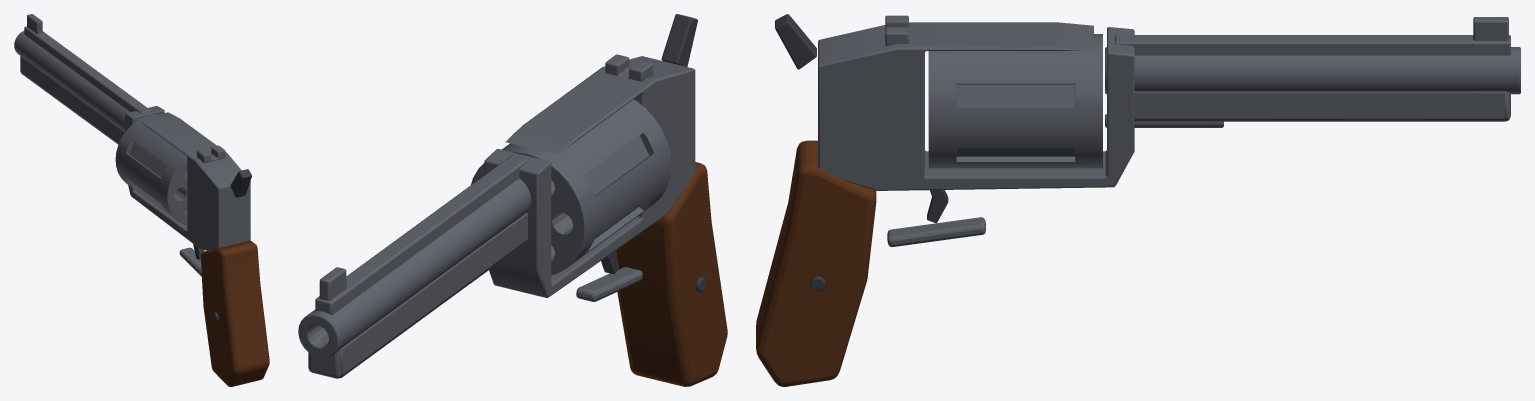
Rendered from judge.glb.
3 views of the same model, side by side, from view 1: azimuth 30°, elevation 25°; view 2: azimuth 150°, elevation 25°; view 3: azimuth 270°, elevation 25° (orthographic). The views are drawn at different scales.
Parts seen in each view (by area): view 1: grip, frame, cylinder, barrel, rib, lug, hammer, rear_sight, tguard, front_sight; view 2: frame, grip, cylinder, barrel, lug, rib, hammer, tguard, rear_sight, front_sight; view 3: frame, cylinder, grip, barrel, lug, rib, tguard, hammer, front_sight, rear_sight, ejector_rod.
Part boxes in pixels (x1=…): grip: x1=200, y1=240, x2=269, y2=386; frame: x1=125, y1=106, x2=250, y2=250; cylinder: x1=115, y1=114, x2=187, y2=225; barrel: x1=14, y1=31, x2=129, y2=131; rib: x1=24, y1=26, x2=150, y2=113; lug: x1=20, y1=55, x2=124, y2=144; hammer: x1=230, y1=169, x2=251, y2=197; rear_sight: x1=197, y1=145, x2=225, y2=163; tguard: x1=179, y1=247, x2=201, y2=276; front_sight: x1=27, y1=14, x2=42, y2=33; frame: x1=484, y1=56, x2=695, y2=297; grip: x1=616, y1=162, x2=727, y2=386; cylinder: x1=471, y1=99, x2=671, y2=275; barrel: x1=298, y1=178, x2=531, y2=357; lug: x1=308, y1=212, x2=527, y2=378; rib: x1=315, y1=155, x2=528, y2=314; hammer: x1=661, y1=14, x2=697, y2=66; tguard: x1=576, y1=267, x2=642, y2=301; rear_sight: x1=605, y1=54, x2=653, y2=81; front_sight: x1=319, y1=267, x2=346, y2=300; frame: x1=818, y1=22, x2=1134, y2=190; cylinder: x1=928, y1=34, x2=1102, y2=168; grip: x1=756, y1=140, x2=876, y2=386; barrel: x1=1105, y1=47, x2=1520, y2=94; lug: x1=1134, y1=91, x2=1510, y2=121; rib: x1=1115, y1=35, x2=1510, y2=55; tguard: x1=887, y1=217, x2=985, y2=246; hammer: x1=775, y1=14, x2=816, y2=69; front_sight: x1=1473, y1=17, x2=1508, y2=40; rear_sight: x1=885, y1=15, x2=908, y2=46; ejector_rod: x1=1105, y1=114, x2=1223, y2=127.
Size of the model in its own units: 0.068 by 0.199 by 0.3862.
